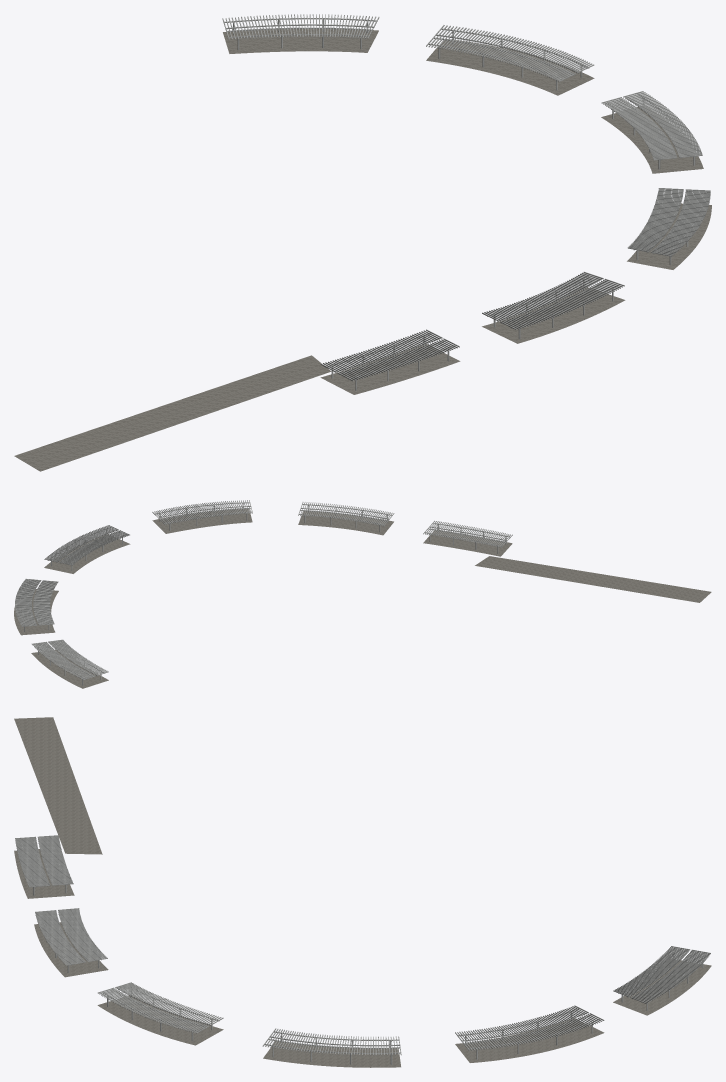
3 renders of one model, top to bottom at view 1: azimuth 30°, elevation 25°; view 2: azimuth 150°, elevation 25°; view 3: azimuth 270°, elevation 25°, orthographic. The views are drawn at different scales.
Parts seen in each view (by area): view 1: Museum promenade granite, Museum promenade painted aluminium; view 2: Museum promenade granite, Museum promenade painted aluminium; view 3: Museum promenade granite, Museum promenade painted aluminium.
Part boxes in pixels (x1,y1,x2,y2): Museum promenade granite: (14,29,711,471); Museum promenade painted aluminium: (222,14,710,390); Museum promenade granite: (14,509,711,688); Museum promenade painted aluminium: (15,500,512,685); Museum promenade granite: (14,717,711,1067); Museum promenade painted aluminium: (15,835,710,1064).
Size of the model in its own units: 186 by 3.1 by 157.
2 materials, 2 textured.
